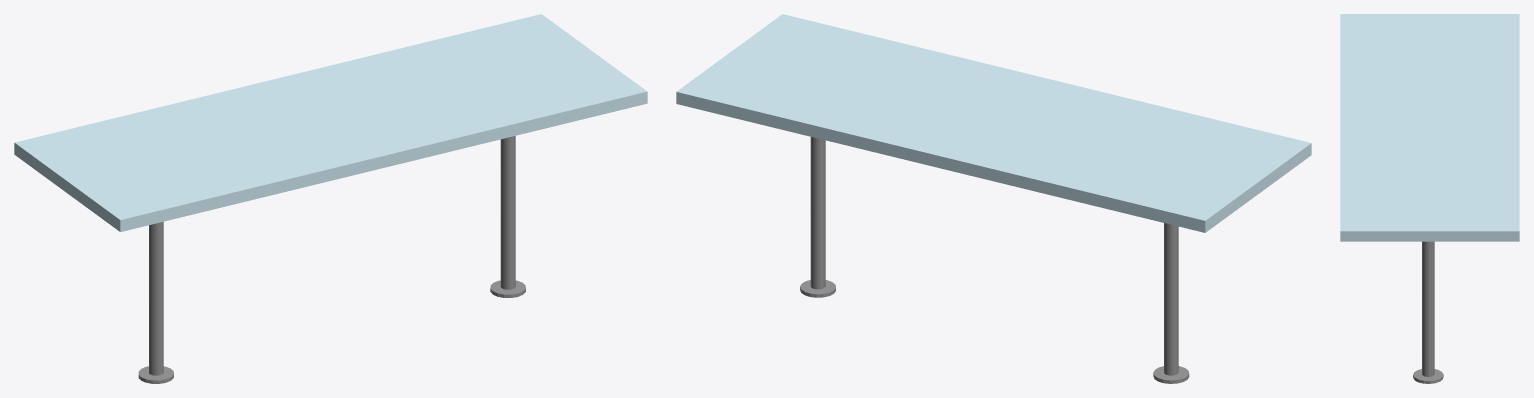
The picture shows the model from 3 angles, left to right: view 1: azimuth 30°, elevation 25°; view 2: azimuth 150°, elevation 25°; view 3: azimuth 270°, elevation 25°; orthographic projection. The views are drawn at different scales.
Parts seen in each view (by area): view 1: table5; view 2: table5; view 3: table5.
Boxes of the visible parts, box(x1,y1,x2,y2) form: table5: box(14, 14, 647, 383); table5: box(676, 14, 1311, 383); table5: box(1340, 14, 1519, 383).
Size of the model in its own units: 200 by 78.11 by 69.52.
